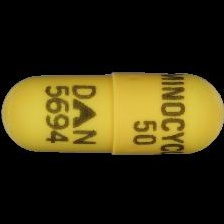55289-202: (0, 0, 224, 224)
